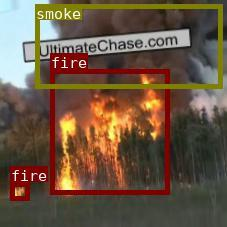fire: (49, 69, 168, 194), (9, 182, 28, 199)
smoke: (34, 3, 222, 88)
